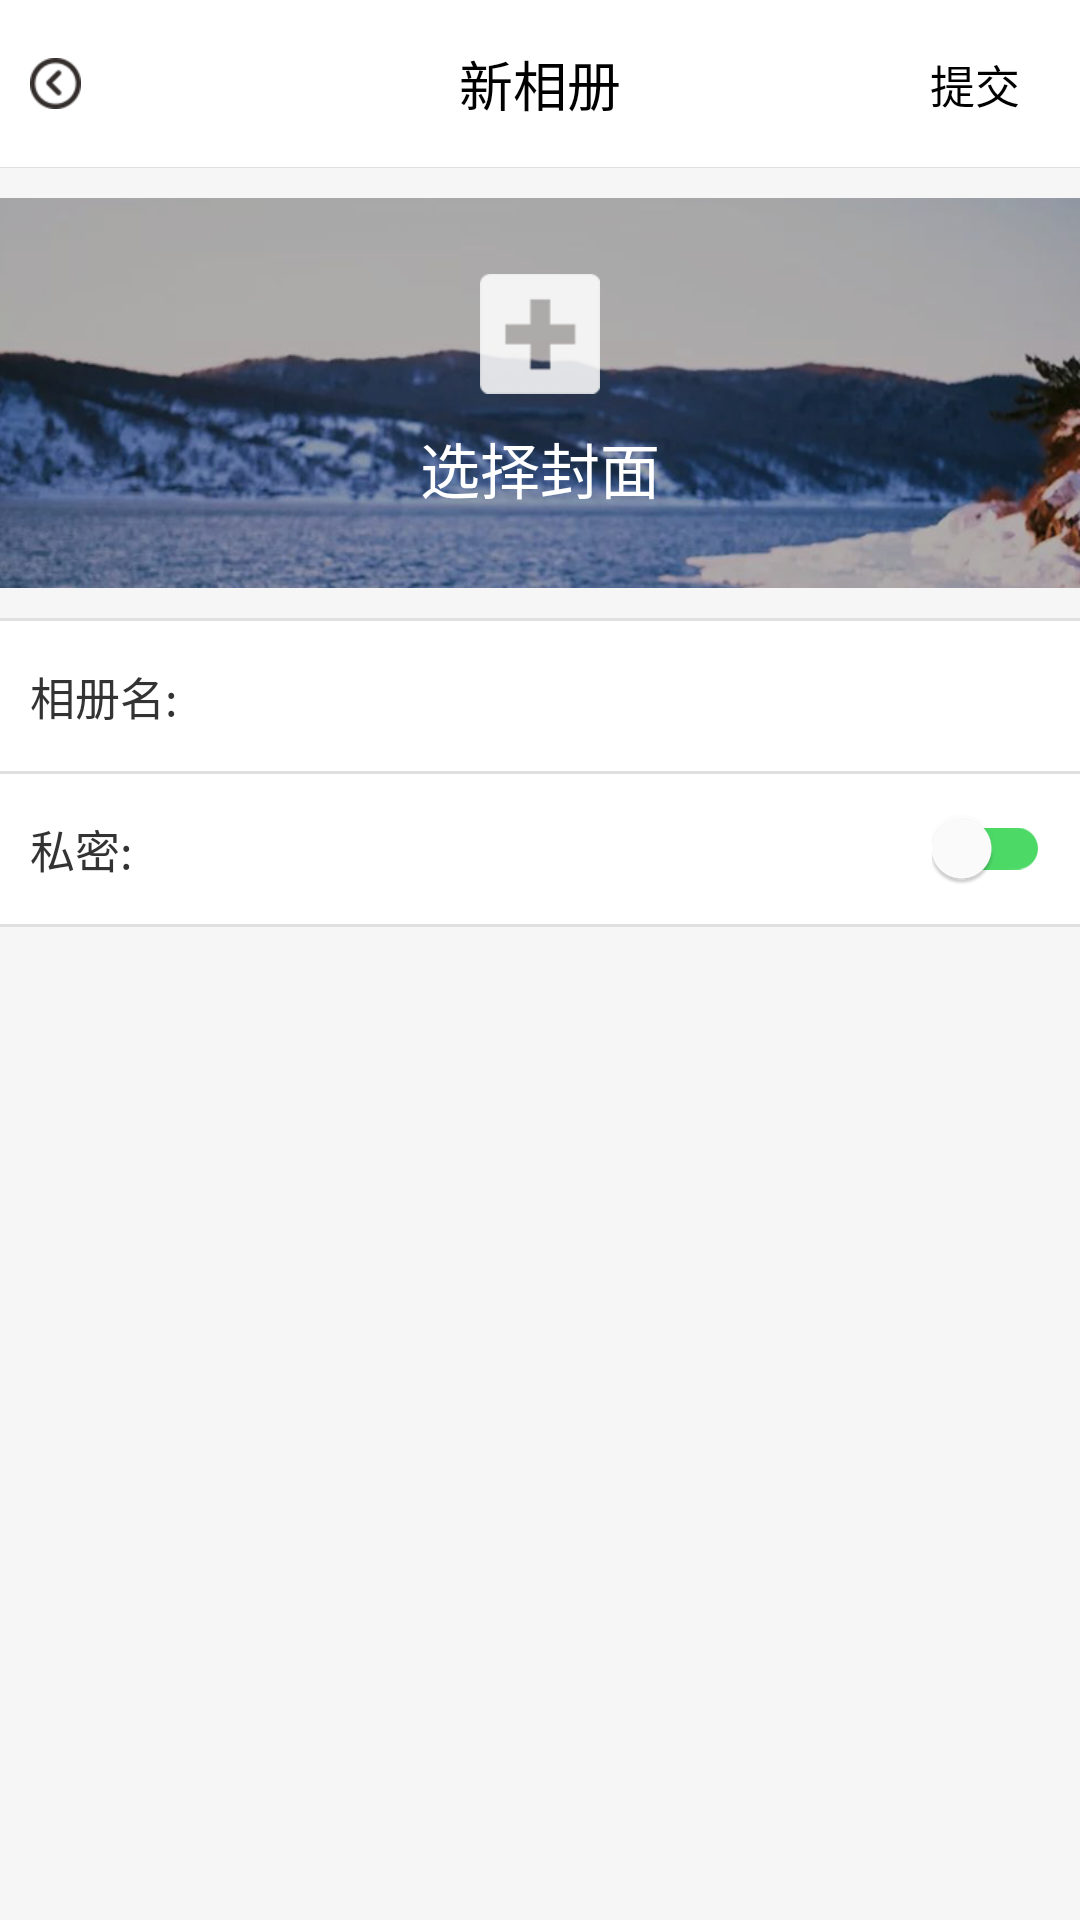

Screen size 1080 × 1920. Icon name, then its box in pixels as (x1,y1,x2,y2):
back: (30,58,81,109)
